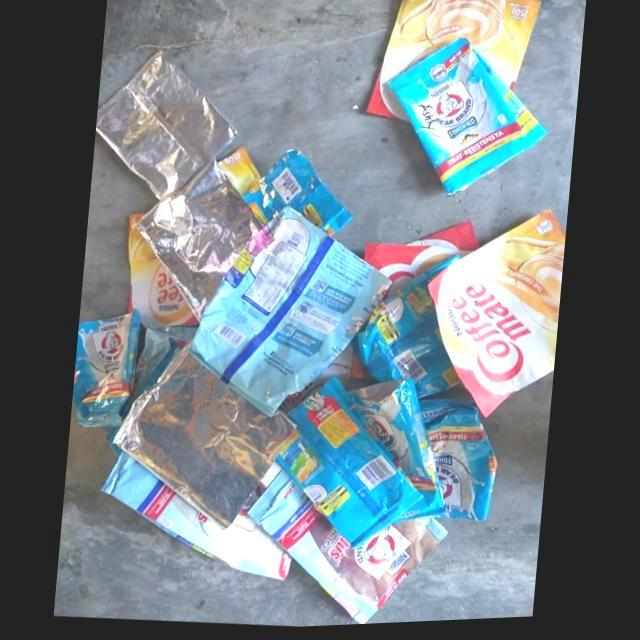food_wrapper: (114, 351, 295, 530), (96, 50, 238, 202), (135, 163, 261, 322)
plastic_sachet: (190, 208, 392, 418), (247, 472, 448, 627), (428, 212, 567, 421), (276, 378, 424, 551), (388, 40, 548, 198), (101, 452, 291, 582), (366, 0, 542, 126), (357, 257, 462, 401), (351, 382, 446, 526), (420, 404, 498, 525), (243, 152, 353, 236), (127, 214, 198, 330), (72, 310, 140, 428)
